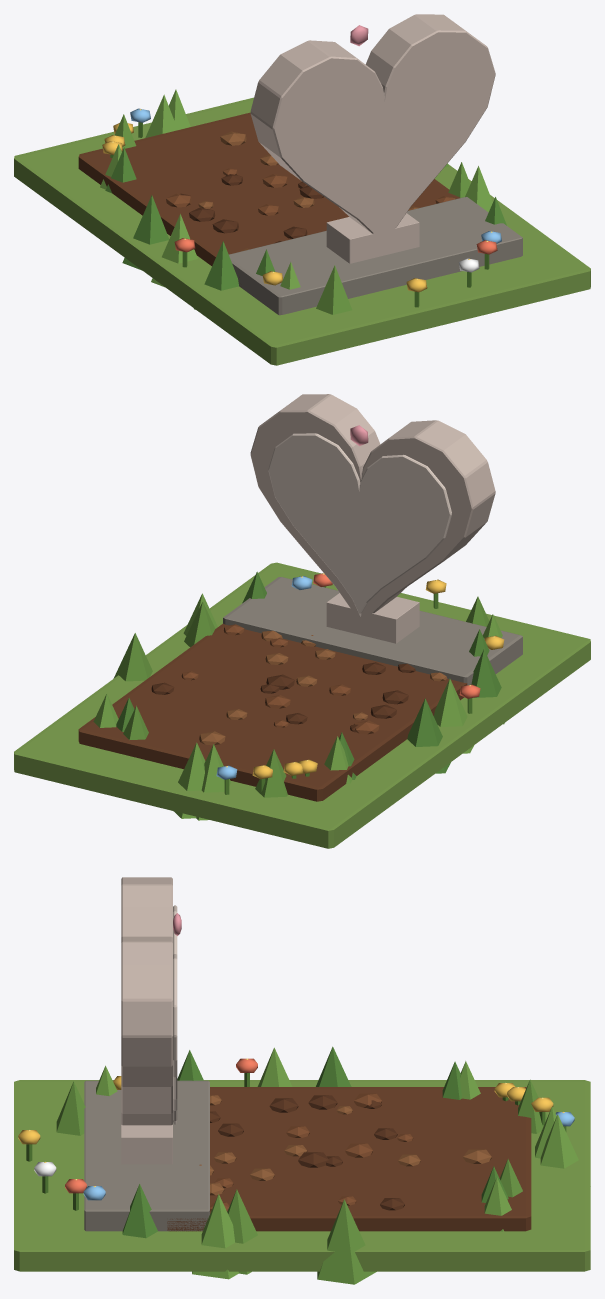
File: gravestone_heart.glb
The picture shows the model from 3 angles, top to bottom: view 1: azimuth 30°, elevation 25°; view 2: azimuth 150°, elevation 25°; view 3: azimuth 270°, elevation 25°; orthographic projection. The views are drawn at different scales.
Parts seen in each view (by area): view 1: gravestone_heart; view 2: gravestone_heart; view 3: gravestone_heart.
Boxes of the visible parts, left/top/right/bottom form: gravestone_heart: left=14, top=14, right=590, bottom=365; gravestone_heart: left=14, top=394, right=590, bottom=848; gravestone_heart: left=14, top=877, right=590, bottom=1284.
Bounding box in the file's own units: 1.15 × 0.833 × 1.56.
